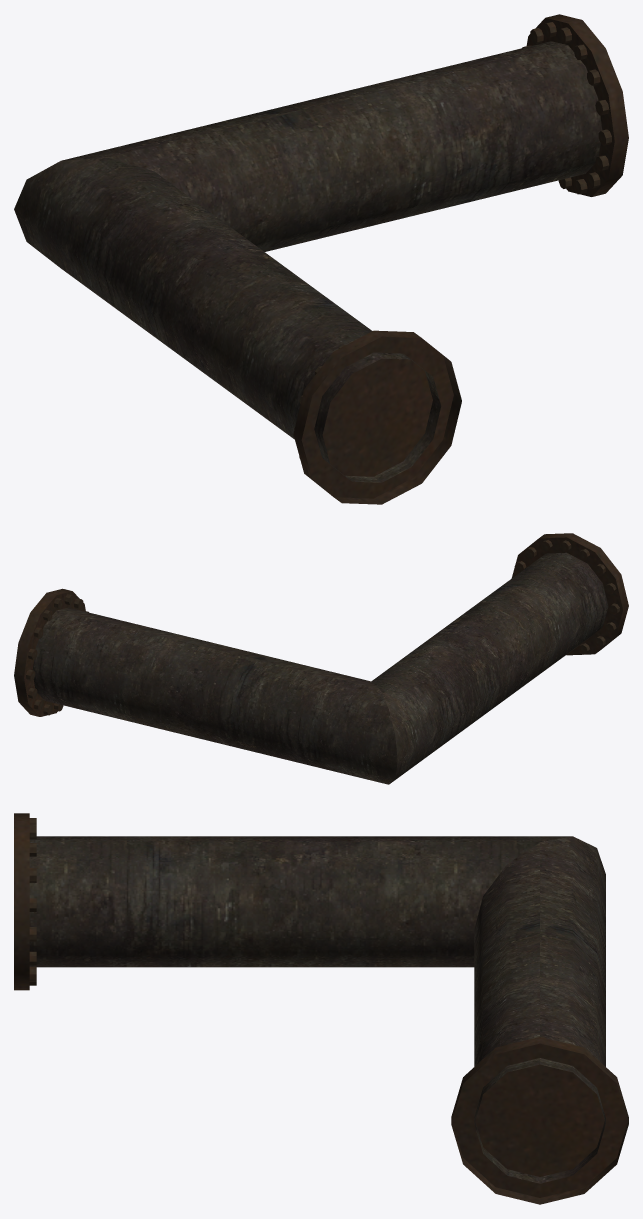
Rendered from pipe_bx_3.obj.
3 renders of one model, top to bottom at view 1: azimuth 30°, elevation 25°; view 2: azimuth 150°, elevation 25°; view 3: azimuth 270°, elevation 25°, orthographic. The views are drawn at different scales.
Visible parts, largest first — view 1: pipe_bx_3; view 2: pipe_bx_3; view 3: pipe_bx_3.
Part boxes in pixels (<box>): pipe_bx_3: <box>14,14,628,504</box>; pipe_bx_3: <box>14,533,628,784</box>; pipe_bx_3: <box>14,813,628,1204</box>.
Size of the model in its own units: 2.34 by 0.676 by 2.34.
